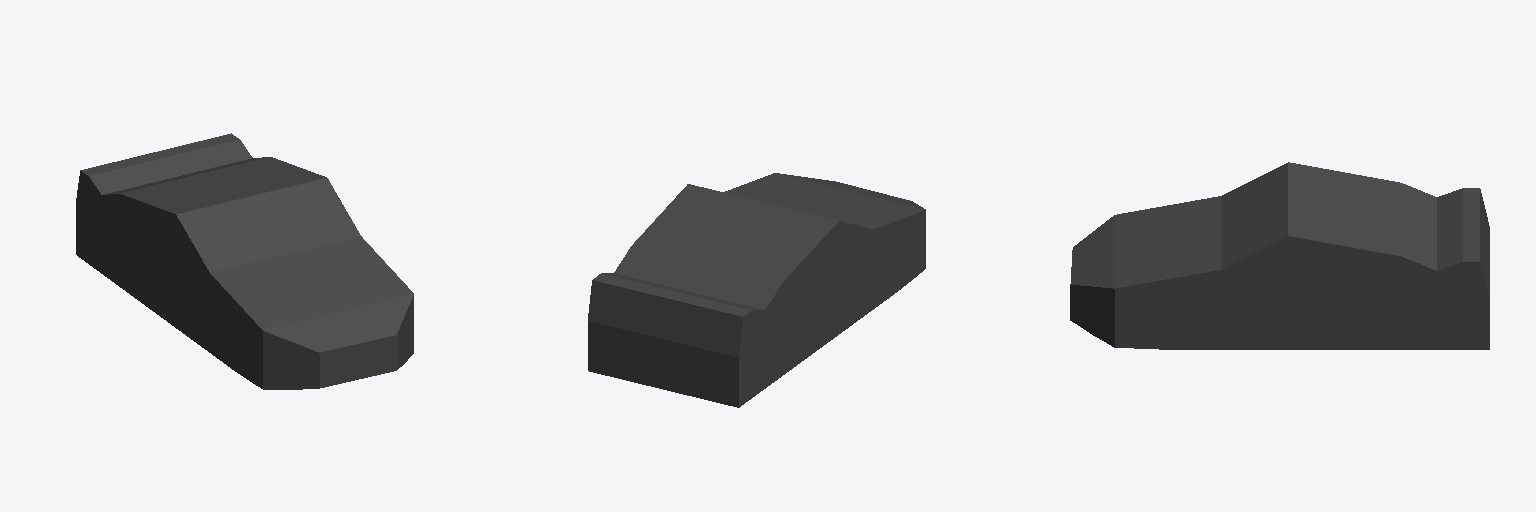
File: 911_hull.obj
3 views of the same model, side by side, from view 1: azimuth 30°, elevation 25°; view 2: azimuth 150°, elevation 25°; view 3: azimuth 270°, elevation 25° (orthographic).
Visible parts, largest first — view 1: Cube_Cube.000; view 2: Cube_Cube.000; view 3: Cube_Cube.000.
Part boxes in pixels (left/top/right/bottom): Cube_Cube.000: left=76, top=133, right=413, bottom=389; Cube_Cube.000: left=588, top=173, right=925, bottom=407; Cube_Cube.000: left=1070, top=162, right=1489, bottom=349.
Size of the model in its own units: 7.01 by 5.04 by 16.81.